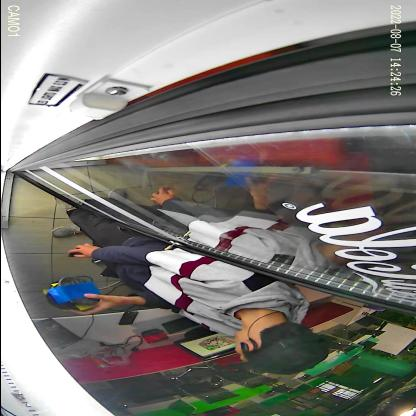blue: (45, 277, 100, 305)
yellow: (41, 282, 96, 312)
